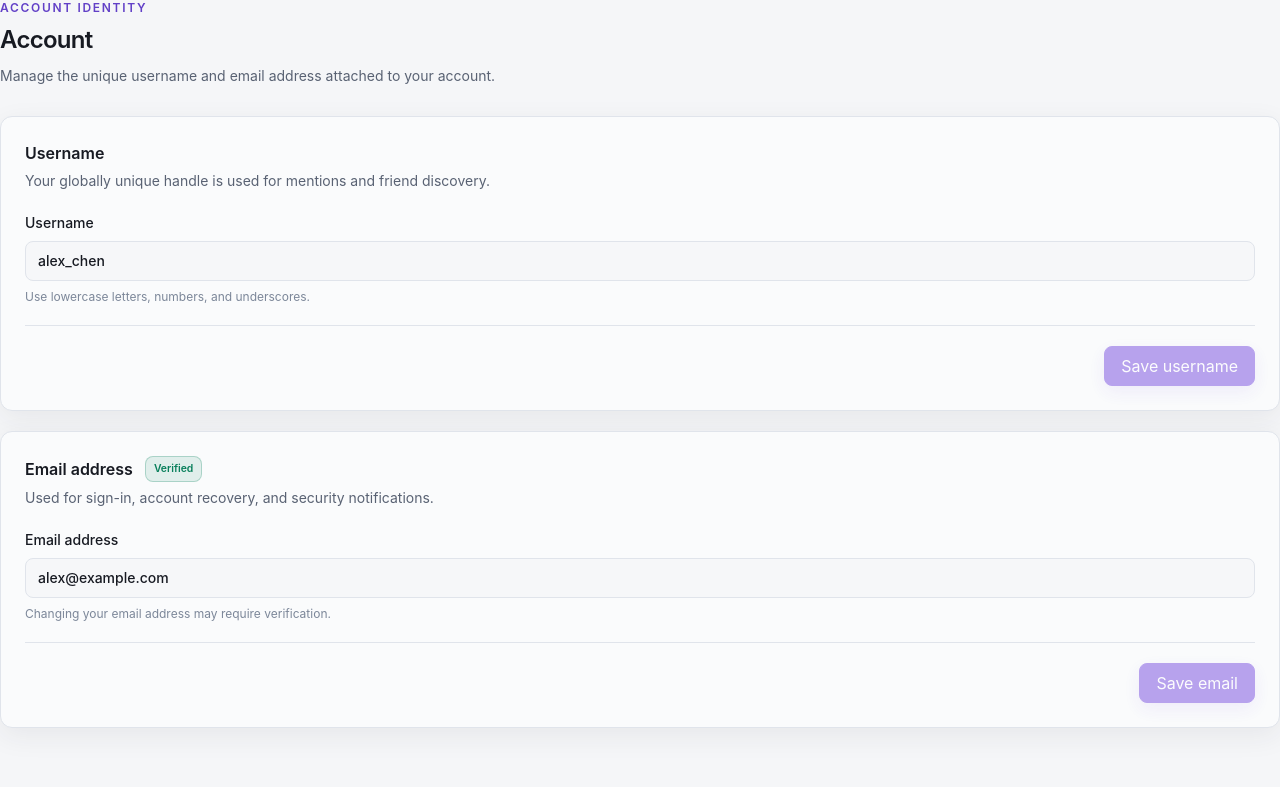
Test: user account and security settings › updates username and email independently while preserving the session cache
Replace the text in the field labelled "Username Use lowercase letters, numbers, and underscores." with "alex_rivera" at (640, 261), box 25,241 -> 1255,281
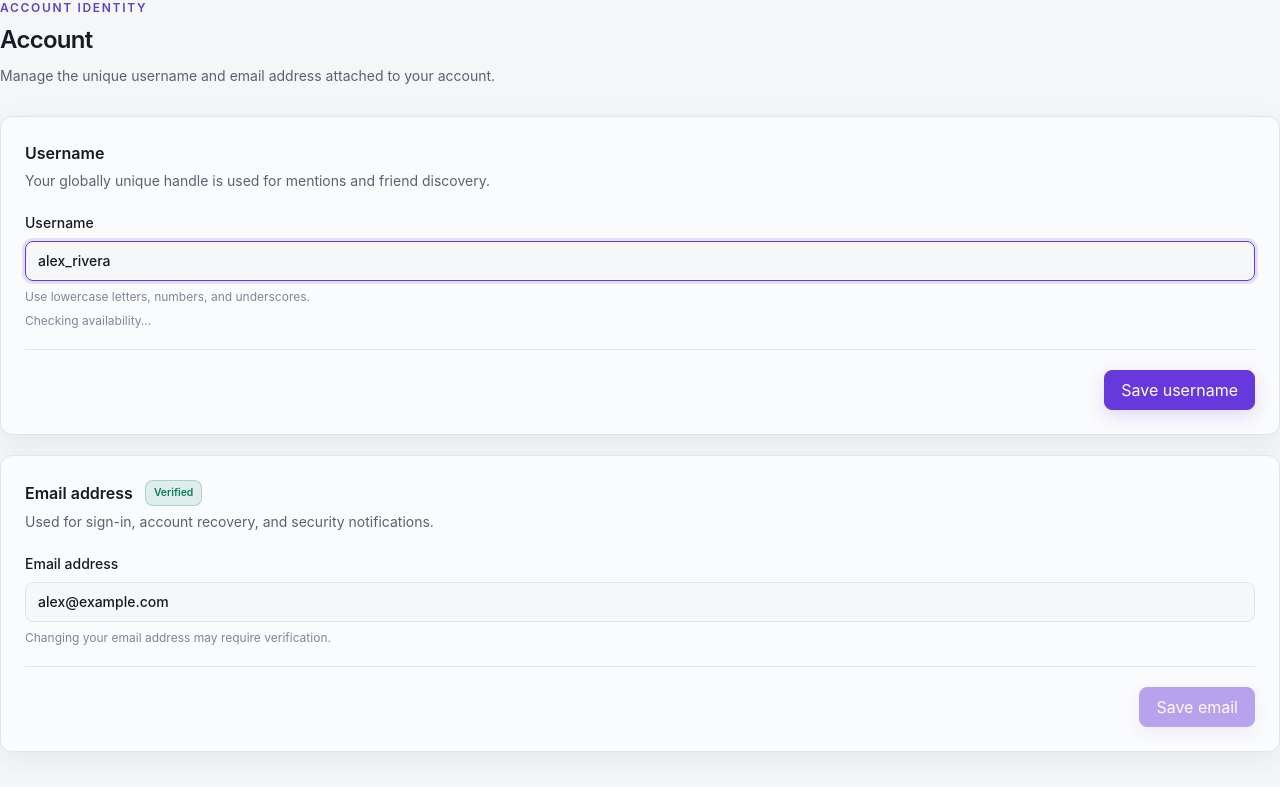
Click the button "Save username".
click(1180, 390)  # box 1104,370 -> 1255,410
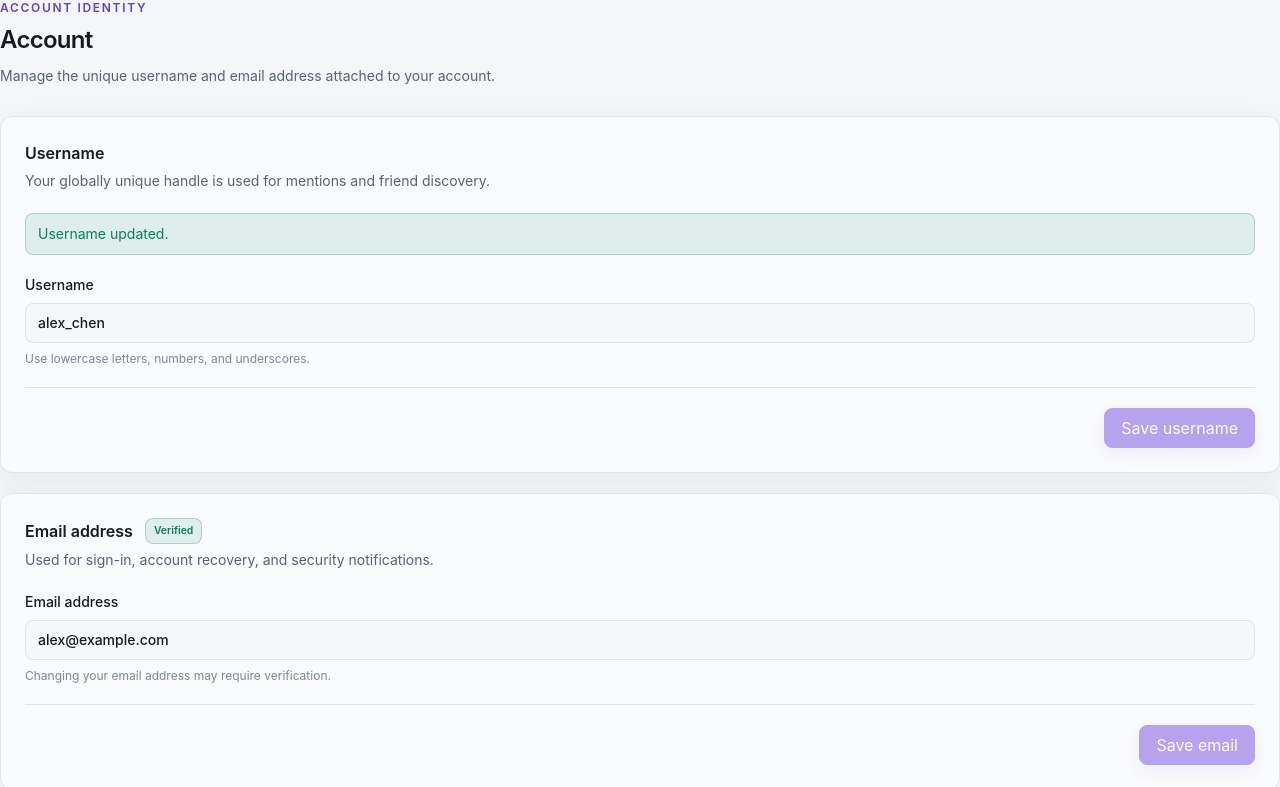
Expected: the message reads "Username updated.", 38,225 -> 168,242
Replace the text in the field labelled "Email address" with "alex.rivera@example.com" at (640, 640), box 25,620 -> 1255,660
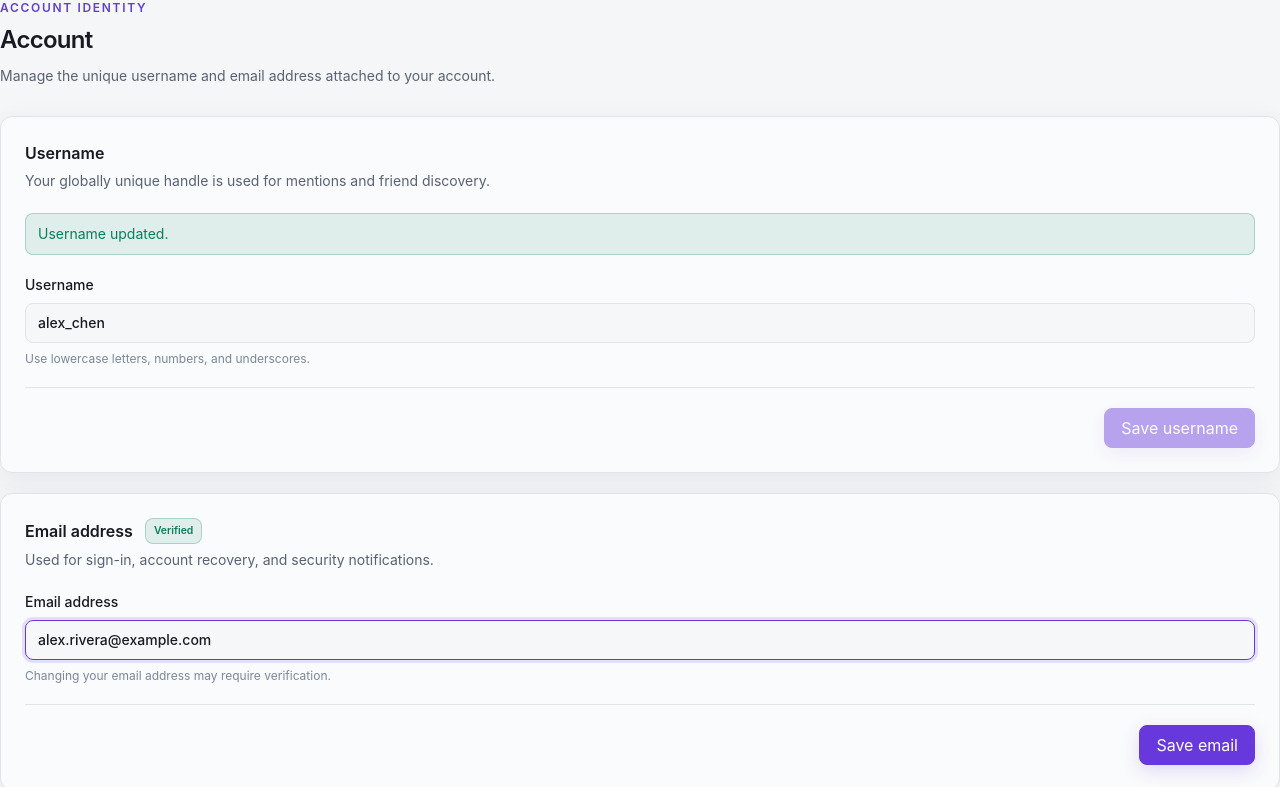
Click the button "Save email".
click(1197, 745)  # box 1139,725 -> 1255,765
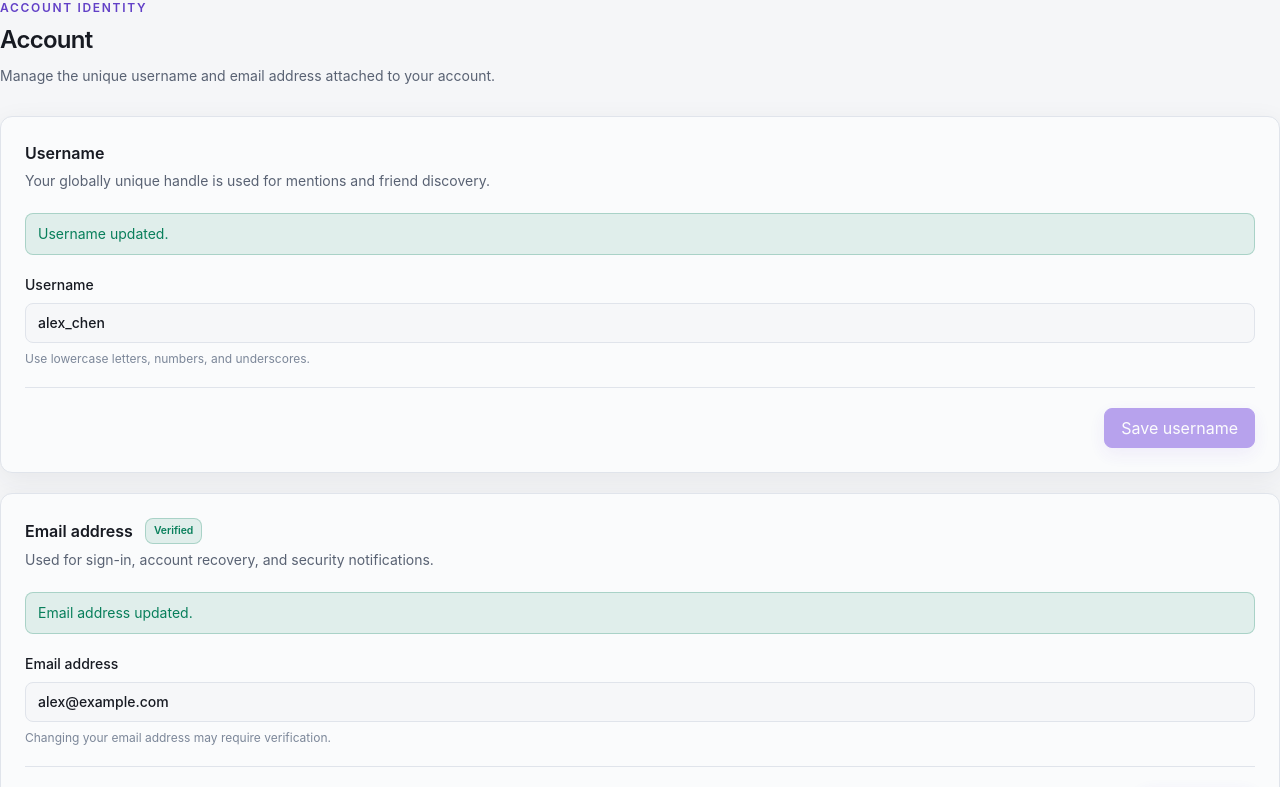
Expected: the text "Email address updated." is shown, 25,592 -> 1255,634
